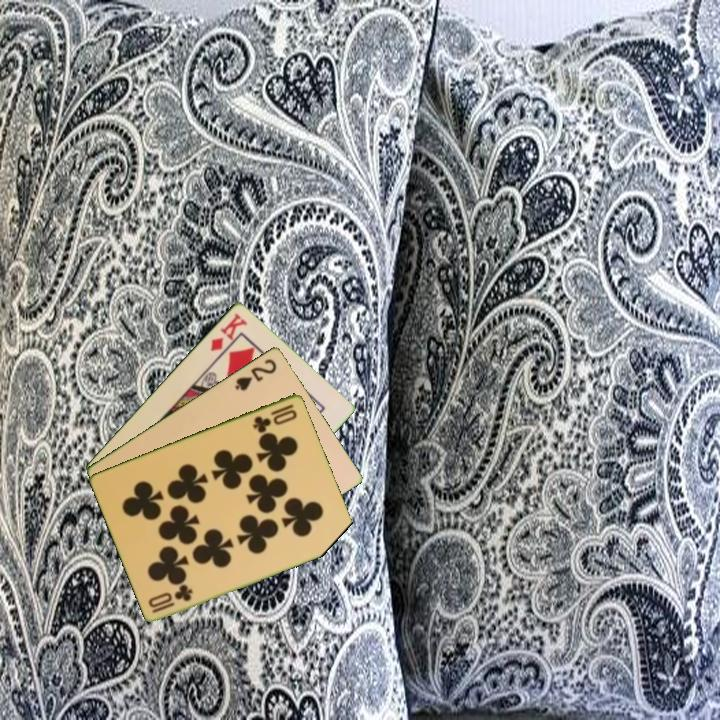10c: (249, 400, 300, 435), (145, 582, 196, 616)
2s: (231, 355, 280, 393)
Kd: (206, 309, 250, 354)
